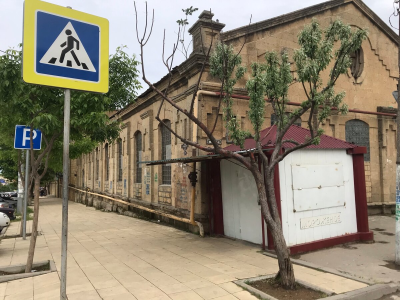crosswalk: (36, 10, 99, 82)
